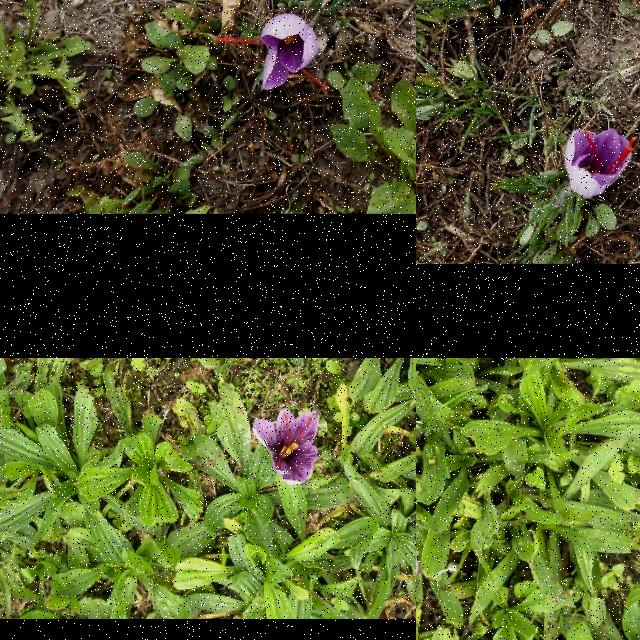flower: (214, 12, 330, 92), (565, 127, 637, 199), (255, 409, 321, 485)
